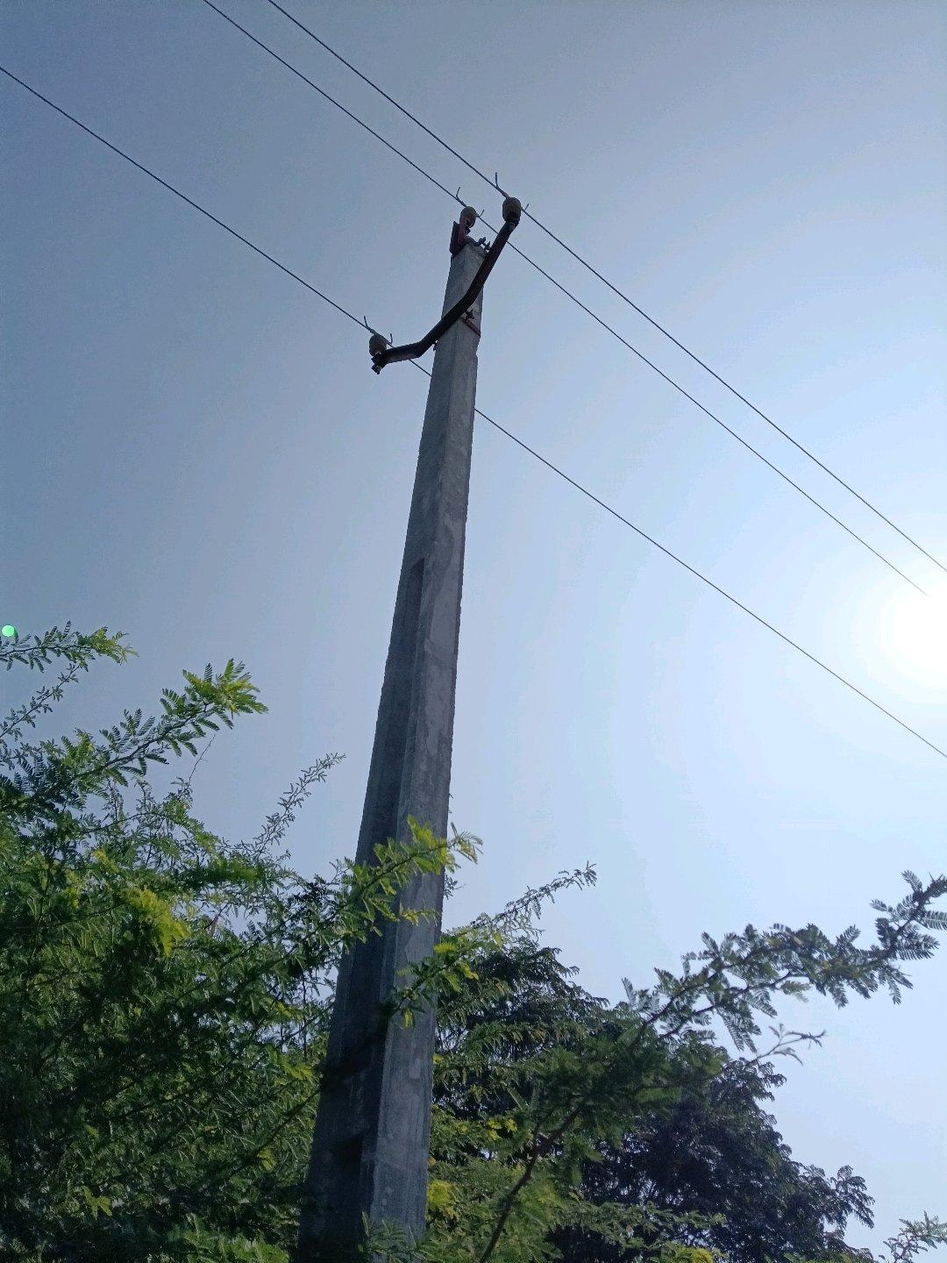{"0" "insulator", "1" "pole", "2" "crossarm", "3" "conductor", "4" "street_: (356, 197, 523, 864), (295, 874, 444, 1262)
